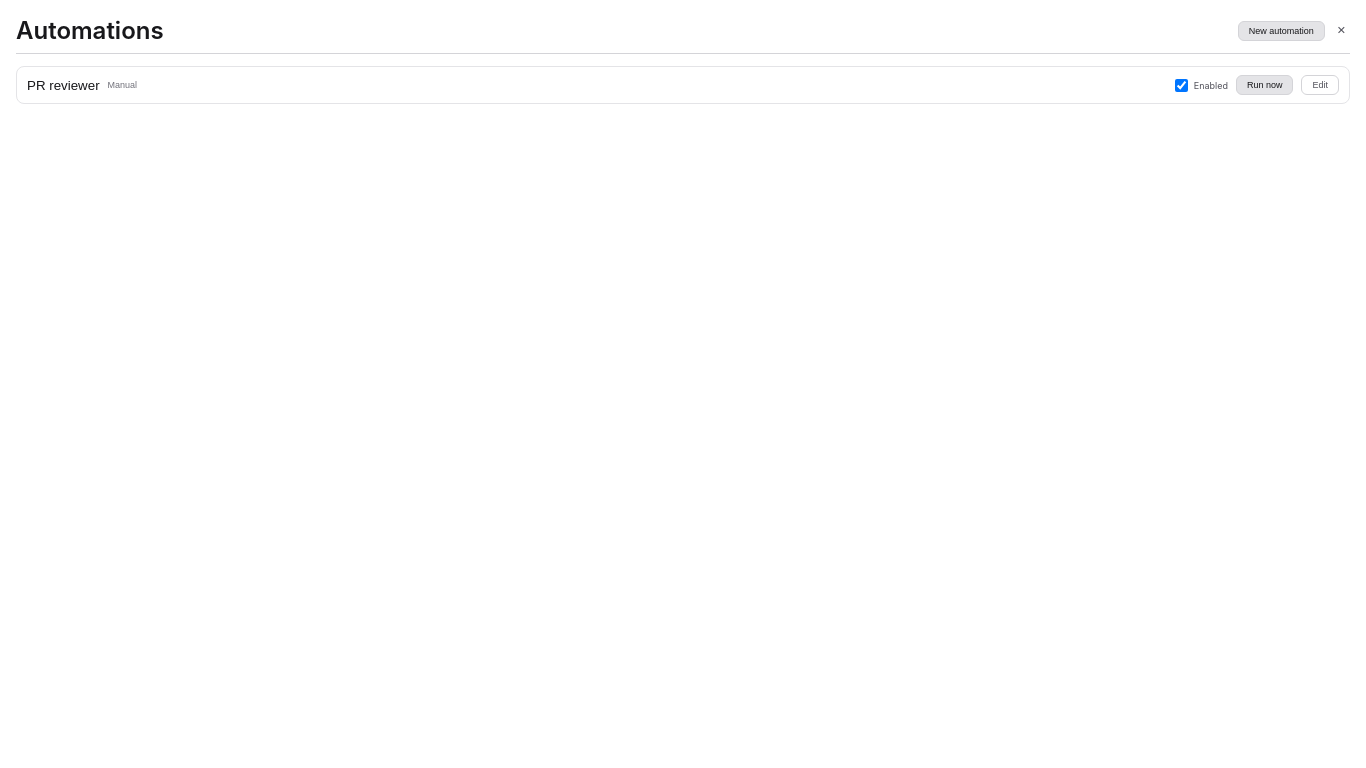
Test: AutomationsPanel › form overlay › opens a fresh form via "New automation" in the header, in create mode
Click the button with test id "automation-new" at (1281, 30), box x1=1238 y1=20 x2=1325 y2=40
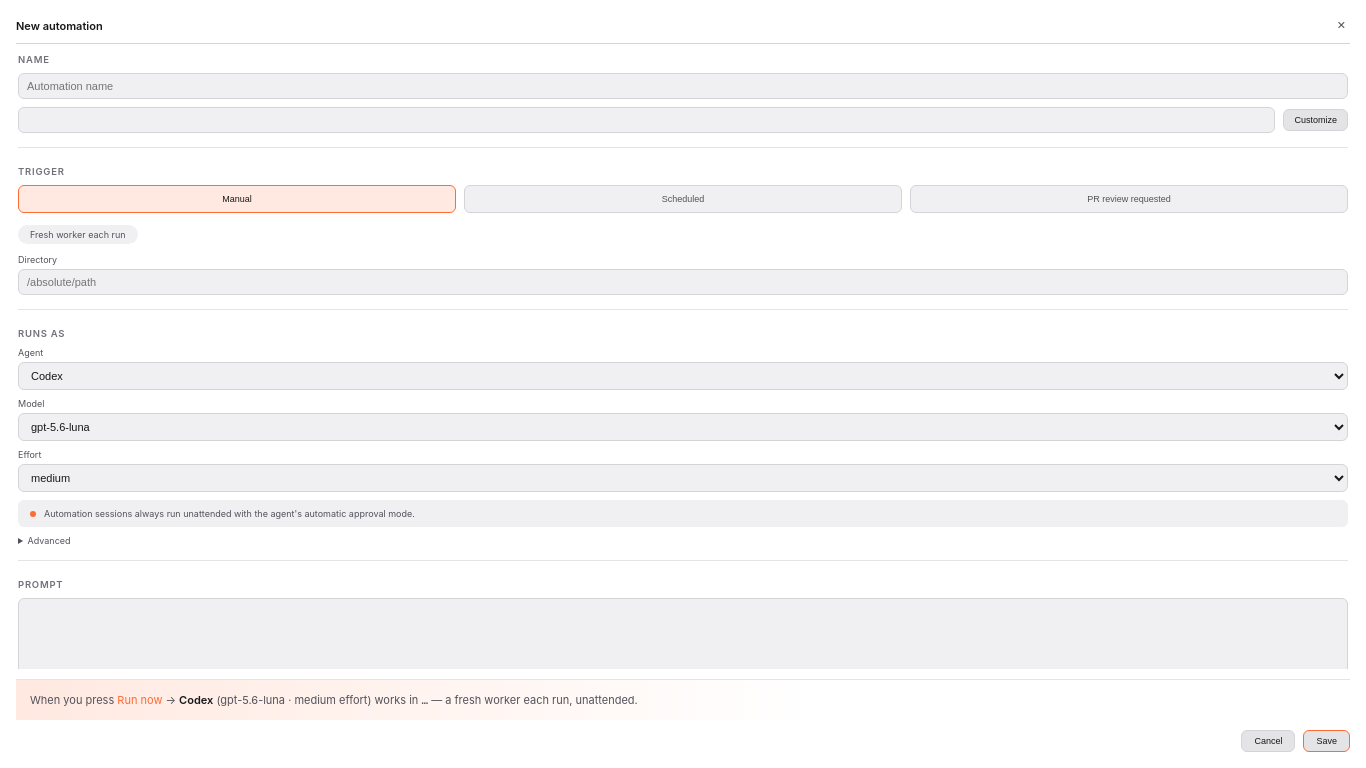
Expected: the form with test id "automation-form" is shown
Expected: the list with test id "automations-panel-list" is gone
